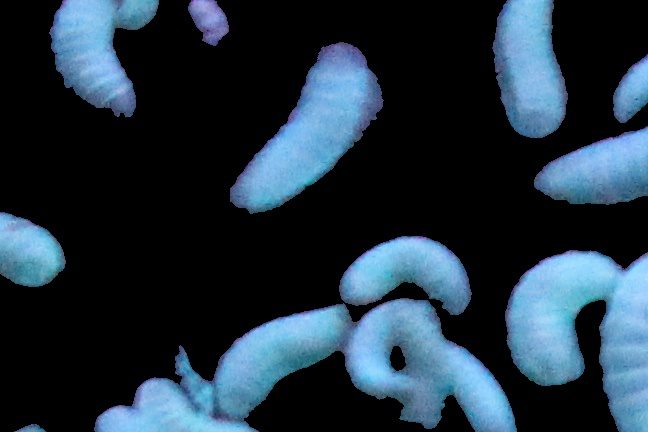larvae: (228, 41, 374, 217), (506, 248, 596, 384), (223, 301, 340, 401), (494, 1, 570, 136), (595, 241, 648, 432), (60, 1, 131, 122), (349, 236, 468, 306), (540, 133, 648, 207), (443, 340, 516, 432), (135, 376, 241, 432), (1, 206, 68, 294), (400, 296, 445, 427), (349, 307, 399, 405), (110, 1, 154, 32)
